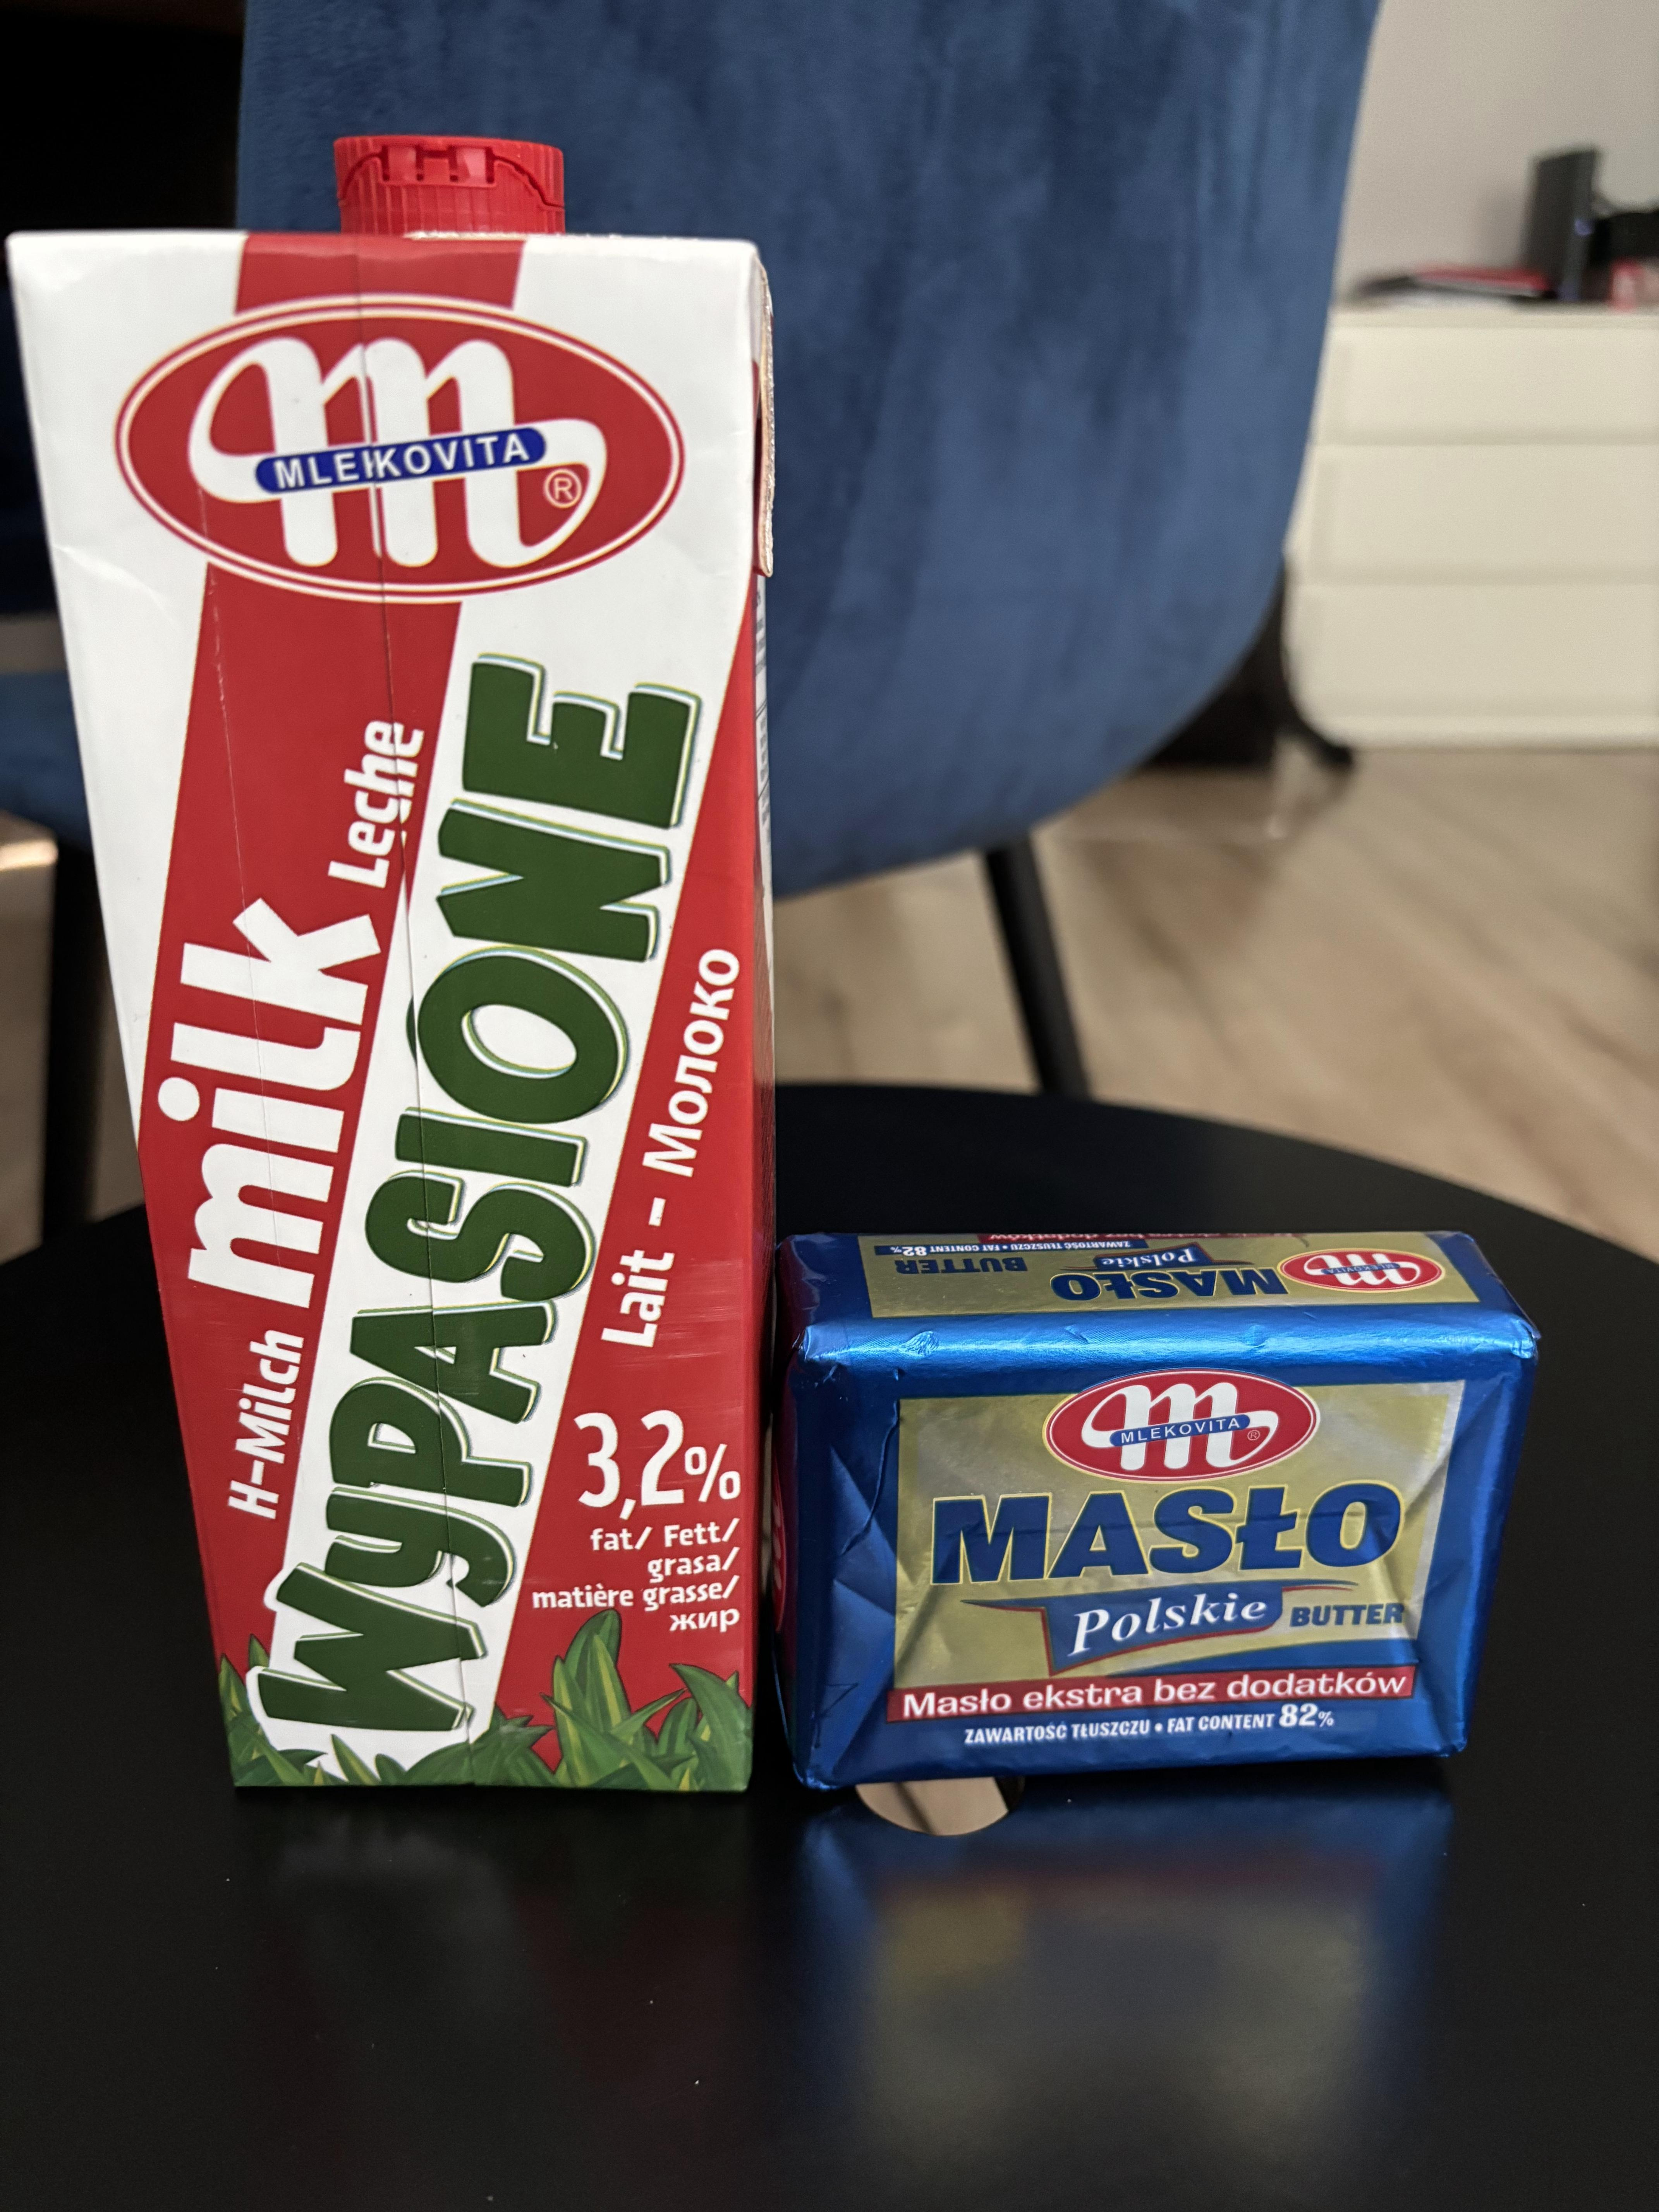Milk: (19, 223, 763, 1831)
